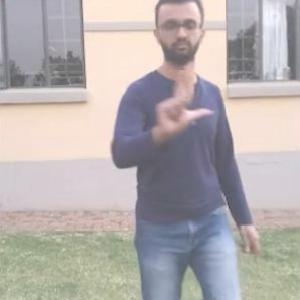land_hand: (149, 66, 218, 137)
